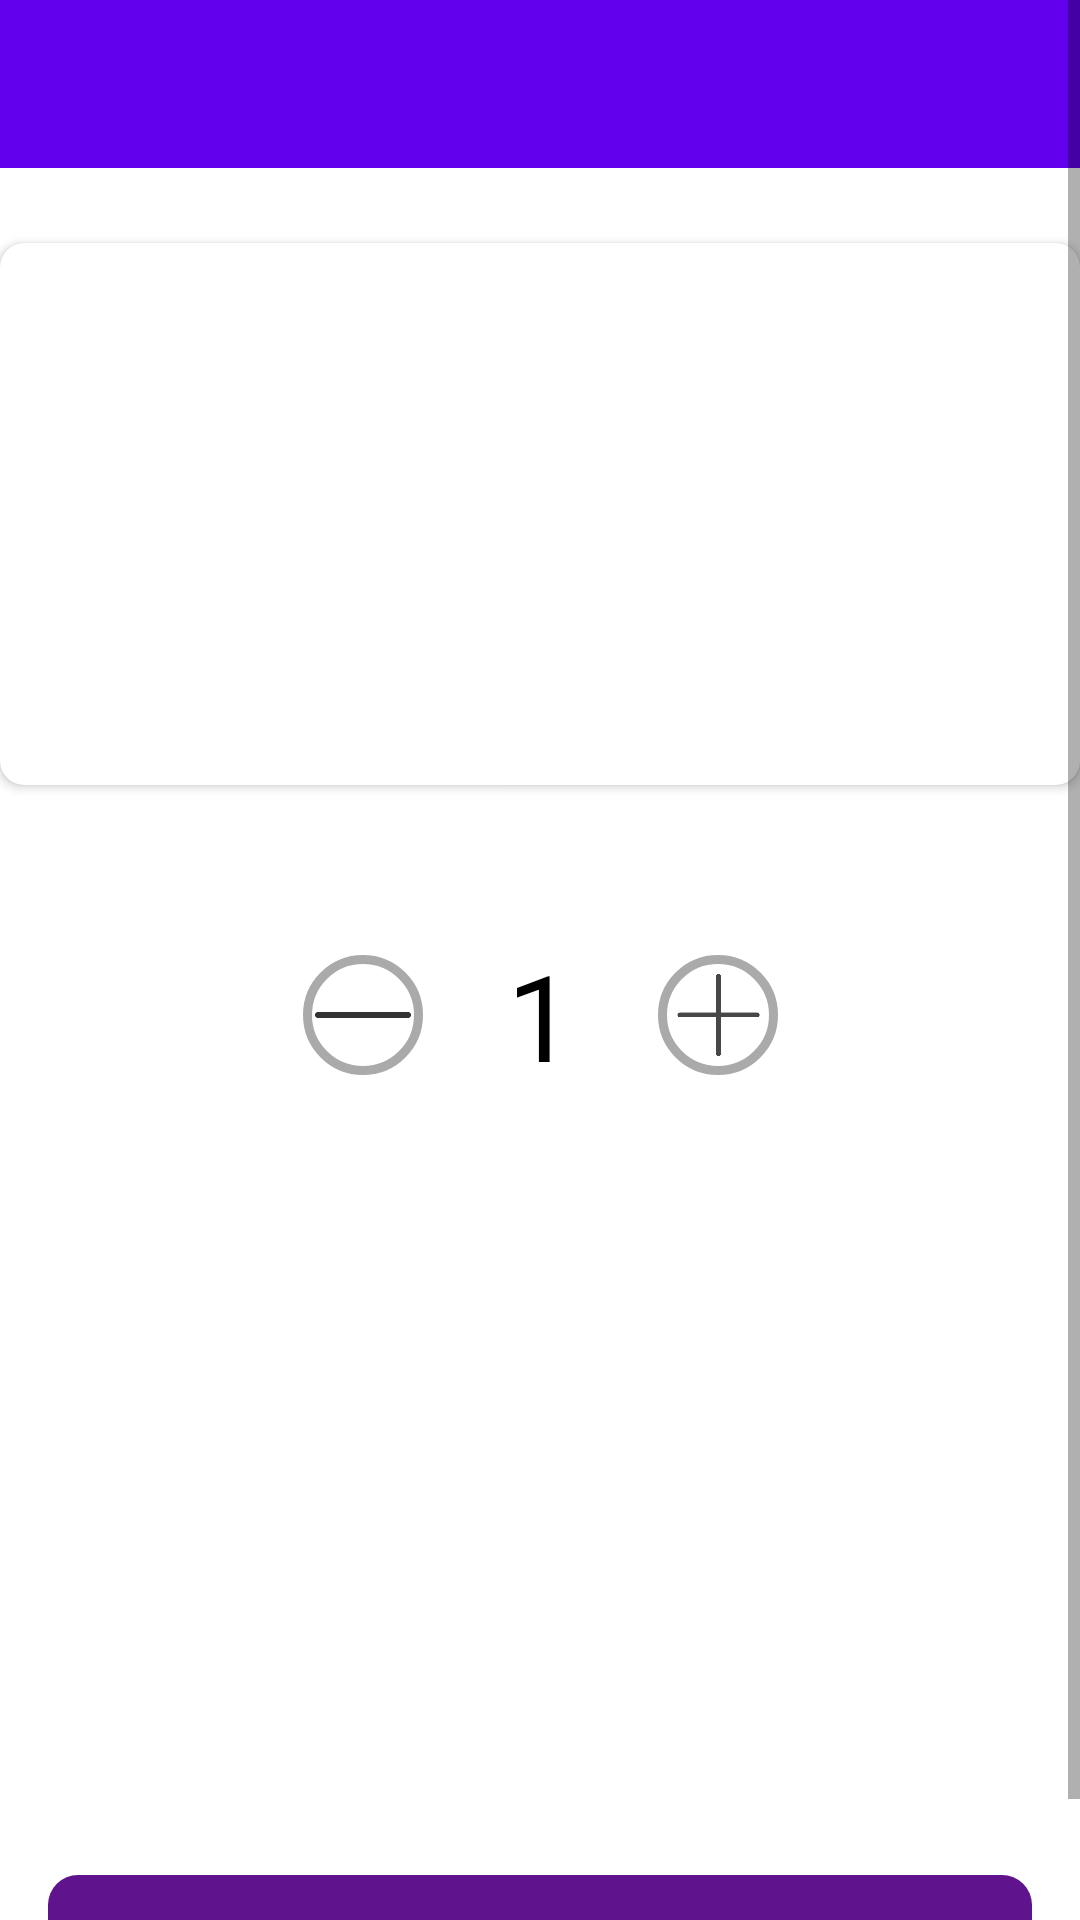

Point at icon controls on the screen. Image size 1080x1920, points as [x,y].
decrease: [363,1015]
increase: [718,1015]
